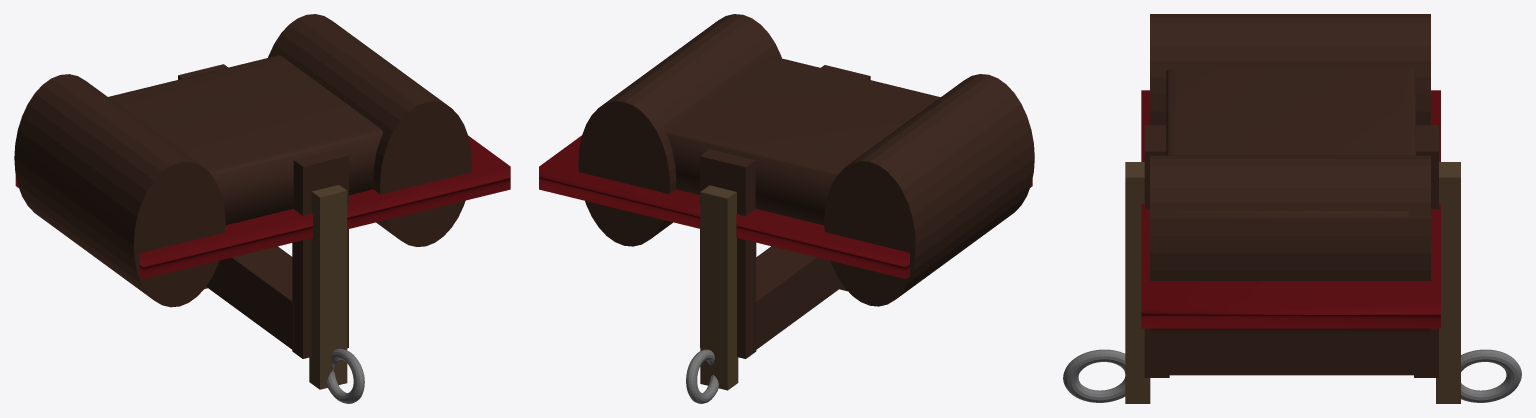
File: saddle_retry.fbx
The picture shows the model from 3 angles, left to right: view 1: azimuth 30°, elevation 25°; view 2: azimuth 150°, elevation 25°; view 3: azimuth 270°, elevation 25°; orthographic projection. The views are drawn at different scales.
Parts seen in each view (by area): view 1: Rear_Cantle, Leather_Seat, Front_Pommel, Saddle_Pad, Left_Stirrup_Strap, Girth_Strap, Left_Leather_Flap, Left_Stirrup.001; view 2: Rear_Cantle, Leather_Seat, Front_Pommel, Saddle_Pad, Left_Stirrup_Strap.001, Girth_Strap, Right_Leather_Flap, Left_Stirrup; view 3: Front_Pommel, Leather_Seat, Rear_Cantle, Saddle_Pad, Girth_Strap, Left_Stirrup_Strap.001, Left_Stirrup_Strap, Right_Leather_Flap, Left_Leather_Flap, Left_Stirrup.001, Left_Stirrup.
Boxes of the visible parts, left/top/right/bottom form: Rear_Cantle: left=14, top=74, right=225, bottom=307; Leather_Seat: left=108, top=55, right=382, bottom=225; Front_Pommel: left=268, top=14, right=471, bottom=246; Saddle_Pad: left=15, top=135, right=510, bottom=279; Left_Stirrup_Strap: left=309, top=185, right=347, bottom=389; Girth_Strap: left=206, top=246, right=293, bottom=350; Left_Leather_Flap: left=292, top=149, right=348, bottom=358; Left_Stirrup.001: left=326, top=348, right=364, bottom=403; Rear_Cantle: left=824, top=74, right=1034, bottom=306; Leather_Seat: left=666, top=55, right=940, bottom=225; Front_Pommel: left=578, top=14, right=781, bottom=246; Saddle_Pad: left=539, top=135, right=1032, bottom=278; Left_Stirrup_Strap.001: left=700, top=185, right=738, bottom=390; Girth_Strap: left=755, top=246, right=843, bottom=349; Right_Leather_Flap: left=700, top=149, right=756, bottom=358; Left_Stirrup: left=686, top=349, right=718, bottom=403; Front_Pommel: left=1150, top=155, right=1430, bottom=332; Leather_Seat: left=1166, top=68, right=1415, bottom=217; Rear_Cantle: left=1150, top=14, right=1430, bottom=125; Saddle_Pad: left=1141, top=90, right=1440, bottom=328; Girth_Strap: left=1169, top=332, right=1413, bottom=375; Left_Stirrup_Strap.001: left=1436, top=162, right=1460, bottom=403; Left_Stirrup_Strap: left=1125, top=162, right=1150, bottom=403; Right_Leather_Flap: left=1414, top=125, right=1438, bottom=377; Left_Leather_Flap: left=1144, top=125, right=1169, bottom=377; Left_Stirrup.001: left=1063, top=349, right=1125, bottom=402; Left_Stirrup: left=1461, top=349, right=1521, bottom=402.
Bounding box in the file's own units: 406 × 268 × 368.
